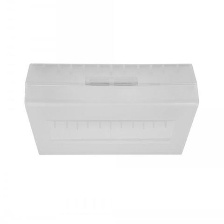plastic_box: (17, 54, 204, 166)
